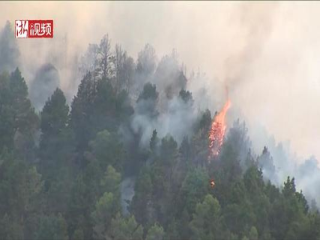fire: (207, 93, 237, 166)
smoke: (227, 8, 316, 201), (124, 72, 205, 163), (19, 51, 95, 128)
